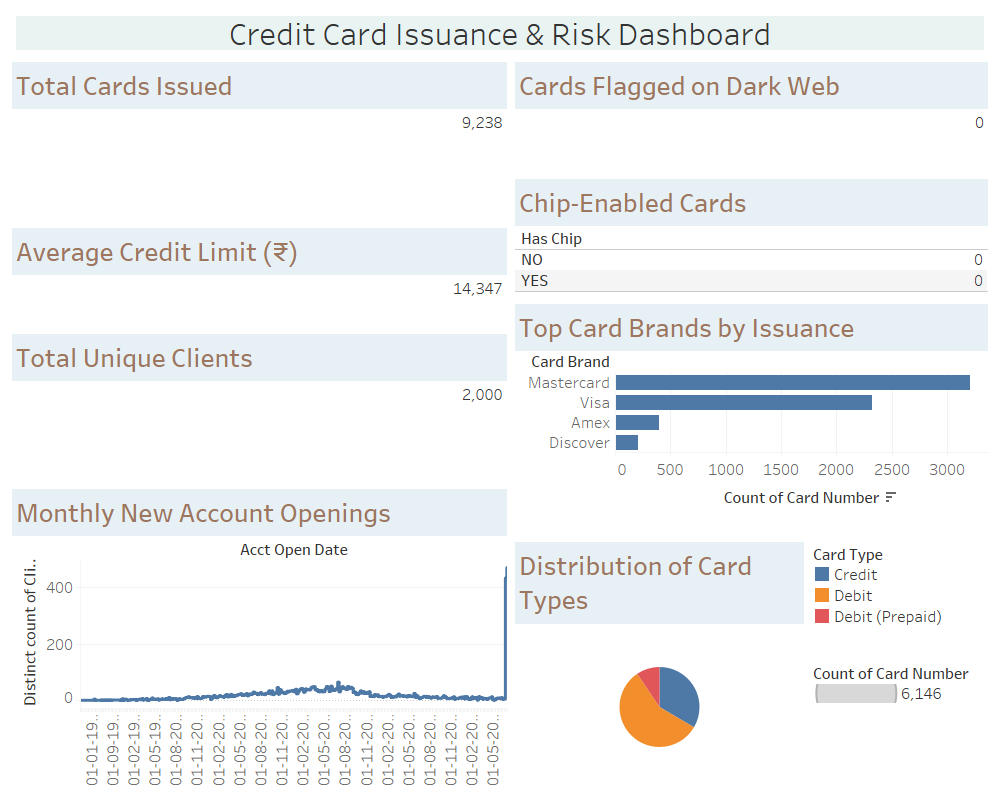

This screenshot's page, from the dashboard's own definition file:
{"tool":"tableau","page":{"name":"Dashboard 1","canvas":[1000,800],"ordinal":0},"visuals":[{"type":"title","box":[8,8,984,50]},{"type":"worksheet","title":"Total Cards Issued","mark":"Automatic","box":[8,58,503,165.7]},{"type":"worksheet","title":"Cards Flagged on Dark Web","mark":"Automatic","box":[511,58,481,117]},{"type":"worksheet","title":"Chip-Enabled Cards","mark":"Automatic","rows":["has_chip"],"box":[511,175,481,124.5]},{"type":"worksheet","title":"Average Credit Limit (₹)","mark":"Automatic","box":[8,223.7,503,106.7]},{"type":"worksheet","title":"Top Card Brands by Issuance","mark":"Automatic","rows":["card_brand"],"cols":["card_number"],"box":[511,299.5,481,238.7]},{"type":"worksheet","title":"Total Unique Clients","mark":"Automatic","box":[8,330.4,503,154.5]},{"type":"worksheet","title":"Monthly New Account Openings","mark":"Automatic","rows":["client_id"],"cols":["acct_open_date"],"box":[8,484.9,503,307.1]},{"type":"worksheet","title":"Distribution of Card Types","mark":"Pie","box":[511,538.3,297.3,253.7]},{"type":"legend","title":"Distribution of Card Types","param":"[federated.1m1dduo1grxnh017eb7i70lhg0dx].[none:card_type:nk]","box":[808.3,538.3,183.7,118.9]},{"type":"legend","title":"Distribution of Card Types","param":"[federated.1m1dduo1grxnh017eb7i70lhg0dx].[cnt:card_number:qk]","box":[808.3,657.2,183.7,134.8]}]}

Visuals, with their boxes in screenshot pixels (x1, y1, x2, y2), scaled from the page's 1000x800 canvas onto the 1000x800 screenshot:
title: rect(8, 8, 992, 58)
"Total Cards Issued" worksheet: rect(8, 58, 511, 224)
"Cards Flagged on Dark Web" worksheet: rect(511, 58, 992, 175)
"Chip-Enabled Cards" worksheet: rect(511, 175, 992, 300)
"Average Credit Limit (₹)" worksheet: rect(8, 224, 511, 330)
"Top Card Brands by Issuance" worksheet: rect(511, 300, 992, 538)
"Total Unique Clients" worksheet: rect(8, 330, 511, 485)
"Monthly New Account Openings" worksheet: rect(8, 485, 511, 792)
"Distribution of Card Types" worksheet (Pie marks): rect(511, 538, 808, 792)
"Distribution of Card Types" legend: rect(808, 538, 992, 657)
"Distribution of Card Types" legend: rect(808, 657, 992, 792)
